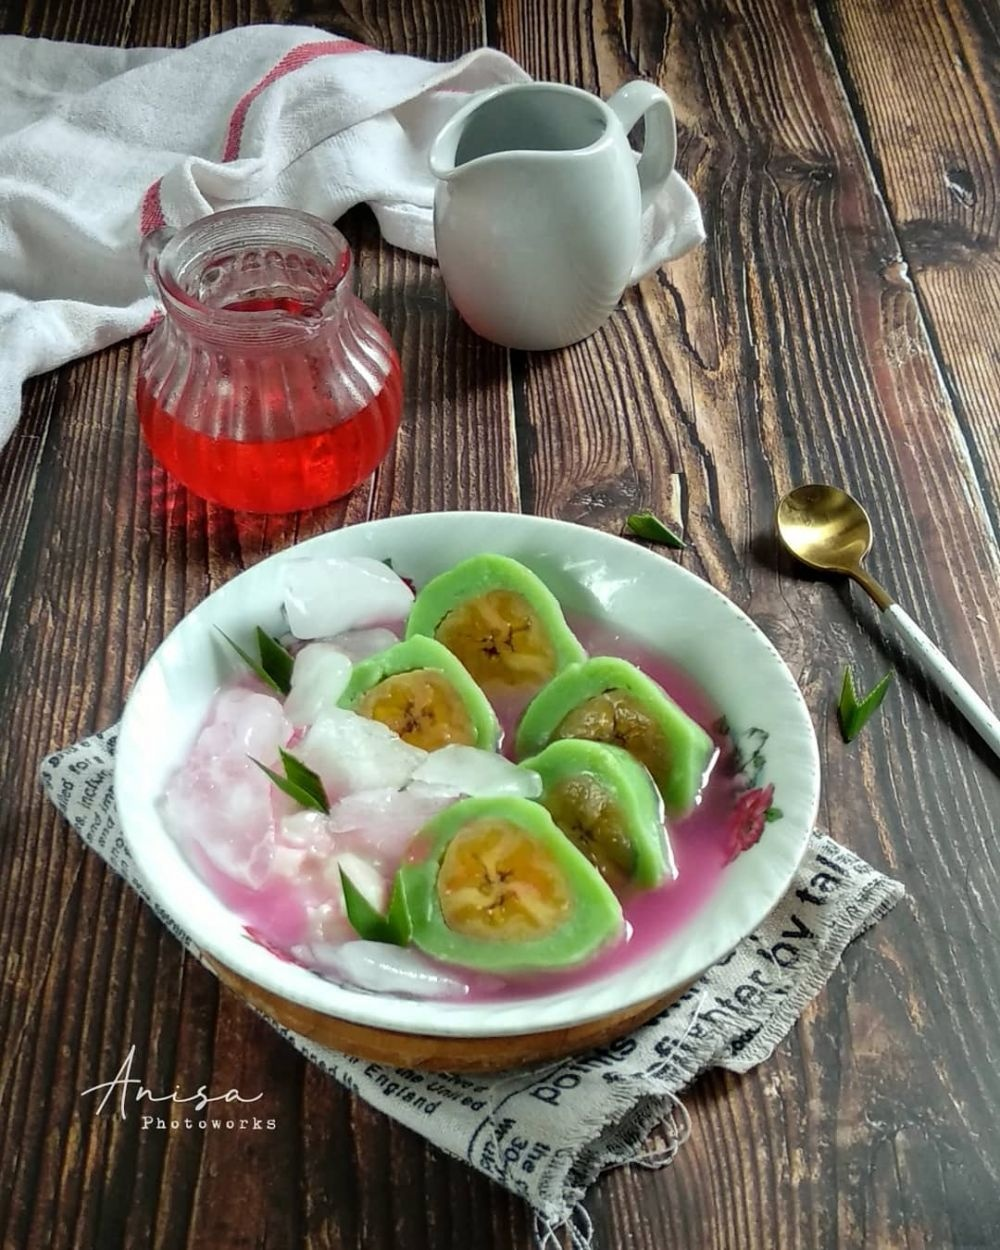es_pisang_ijo: (169, 546, 737, 1001)
